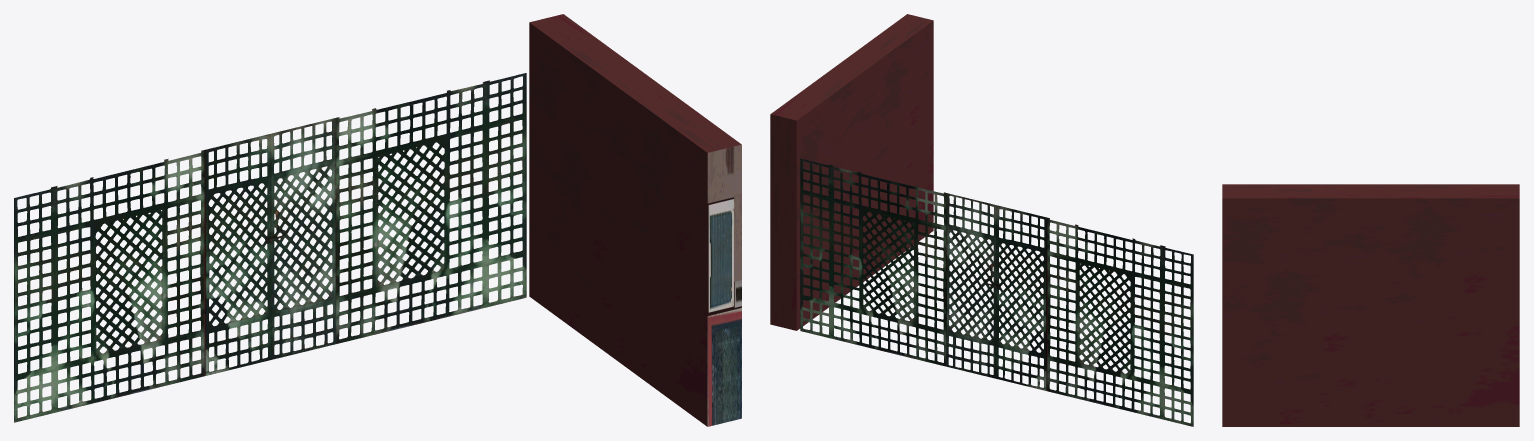
File: Reja_MarceloTAlvear.fbx
The picture shows the model from 3 angles, left to right: view 1: azimuth 30°, elevation 25°; view 2: azimuth 150°, elevation 25°; view 3: azimuth 270°, elevation 25°; orthographic projection. The views are drawn at different scales.
Visible parts, largest first — view 1: Reja_MarceloTAlvear, Cube.006; view 2: Reja_MarceloTAlvear, Cube.006; view 3: Cube.006.
Part boxes in pixels (x1,y1,x2,y2): Reja_MarceloTAlvear: (14,73,526,422); Cube.006: (529,14,741,426); Reja_MarceloTAlvear: (800,158,1193,426); Cube.006: (770,14,933,330); Cube.006: (1222,184,1519,426).
Size of the model in its own units: 16.03 by 7.63 by 9.
